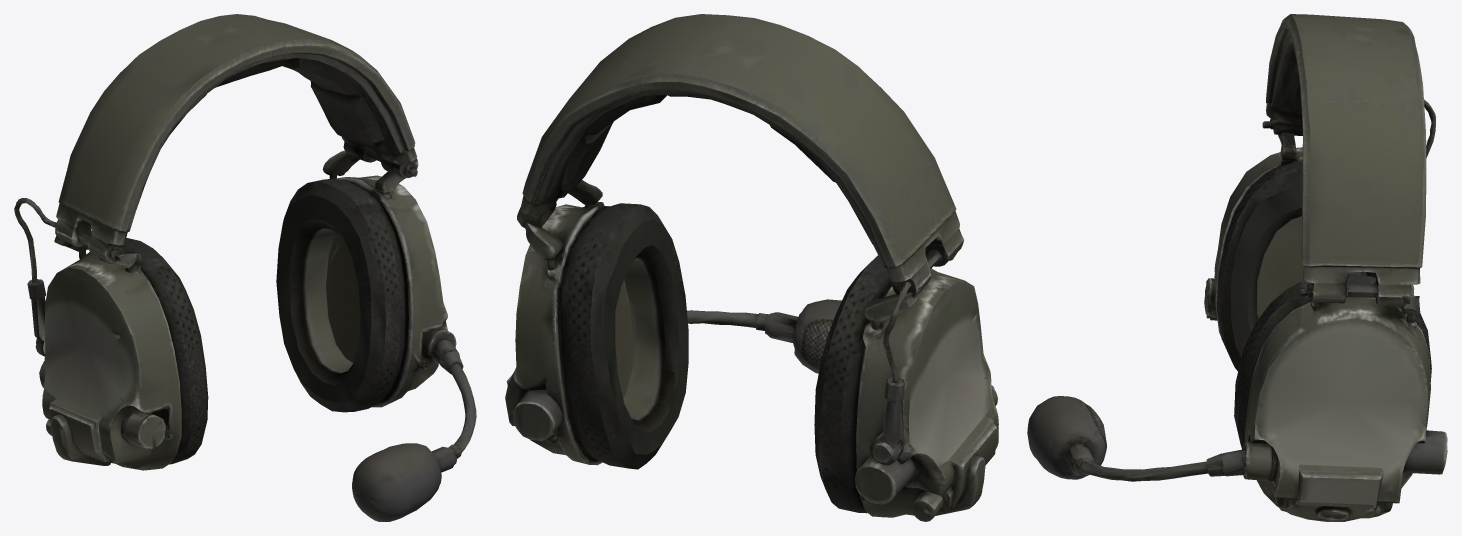
The model's file is cuffie.glb.
3 views of the same model, side by side, from view 1: azimuth 30°, elevation 25°; view 2: azimuth 150°, elevation 25°; view 3: azimuth 270°, elevation 25° (orthographic). The views are drawn at different scales.
Visible parts, largest first — view 1: obj1_0; view 2: obj1_0; view 3: obj1_0.
Boxes of the visible parts, x1,y1,x2,y2 form: obj1_0: (14, 14, 476, 521); obj1_0: (505, 14, 998, 521); obj1_0: (1027, 14, 1447, 521).
Size of the model in its own units: 1 by 0.9847 by 0.8795.
1 material, 1 textured.
